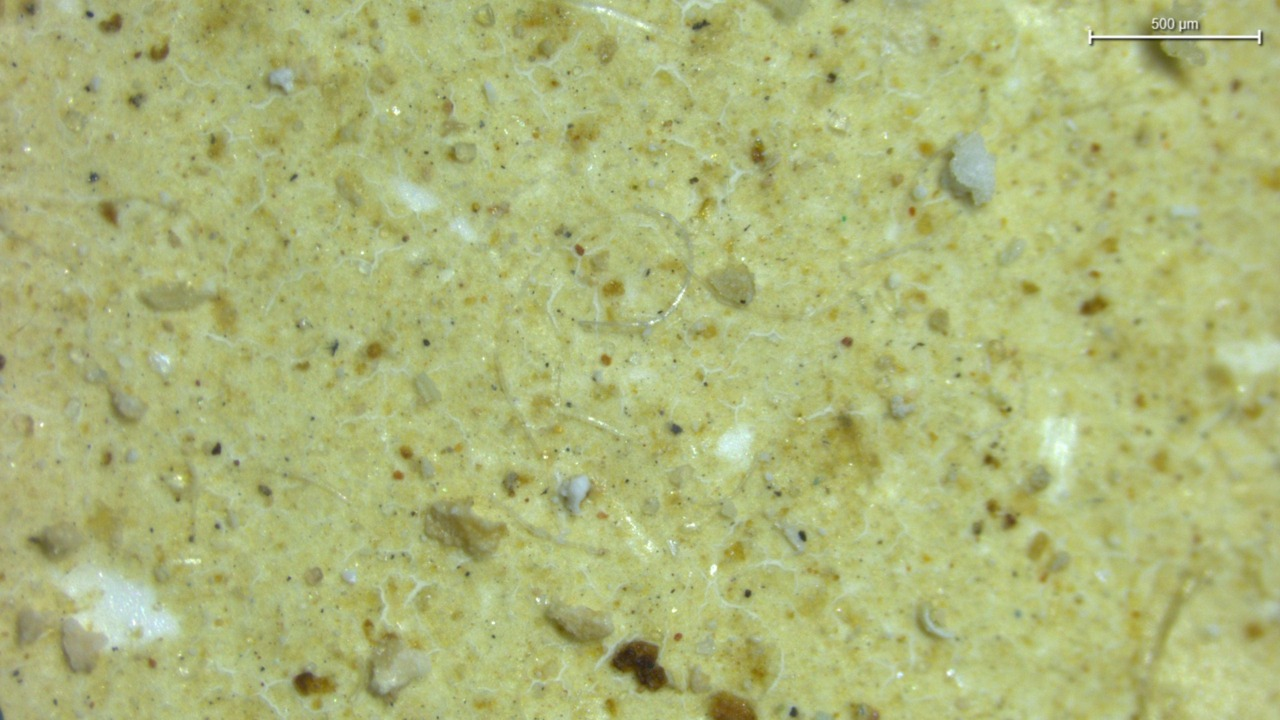microplastic_fragment: (949, 131, 1001, 203), (545, 605, 614, 646), (62, 620, 105, 676), (563, 478, 593, 517)
